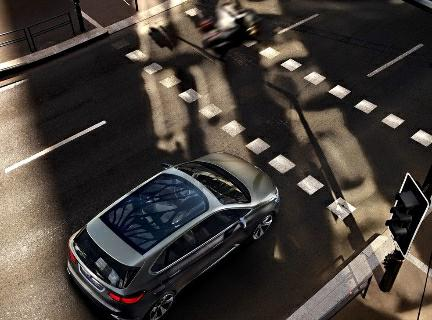宝马-ActiveTourer: (56, 147, 293, 320)
